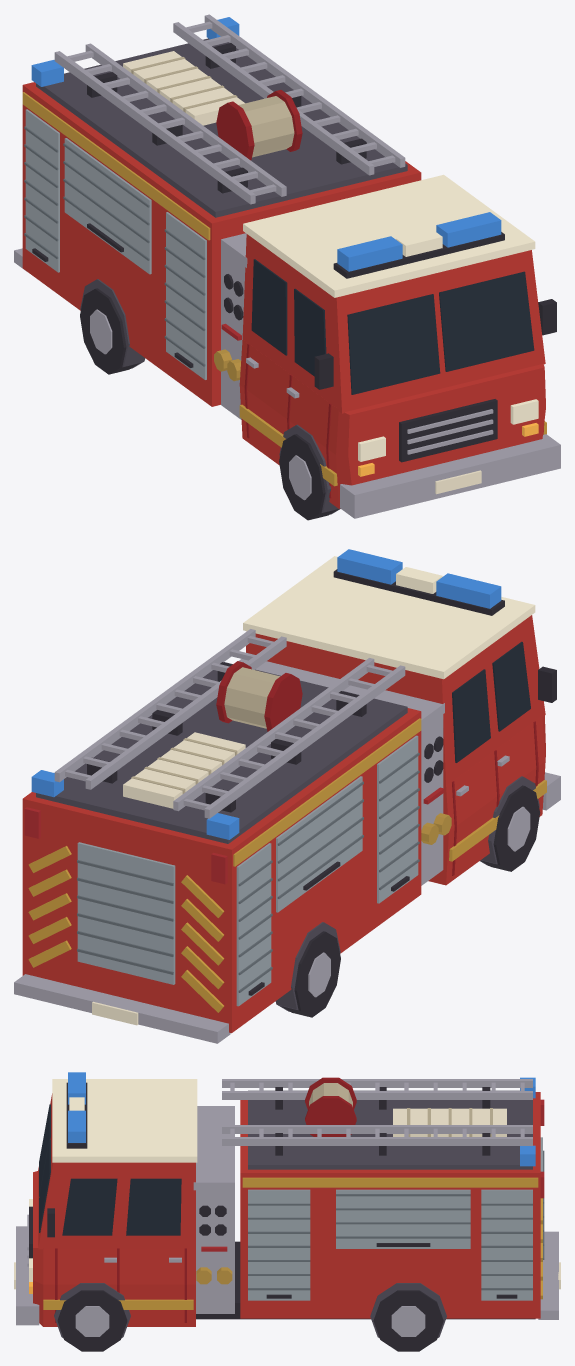
The model's file is fire_engine.glb.
3 views of the same model, one above another, from view 1: azimuth 30°, elevation 25°; view 2: azimuth 150°, elevation 25°; view 3: azimuth 270°, elevation 25° (orthographic). The views are drawn at different scales.
Visible parts, largest first — view 1: FireEngine; view 2: FireEngine; view 3: FireEngine.
Part boxes in pixels (<box>): FireEngine: <box>14,14,560,520</box>; FireEngine: <box>14,549,560,1043</box>; FireEngine: <box>14,1072,560,1351</box>.
Size of the model in its own units: 8.4 by 9.43 by 21.11.
Materials: 1 (1 with a texture image).
